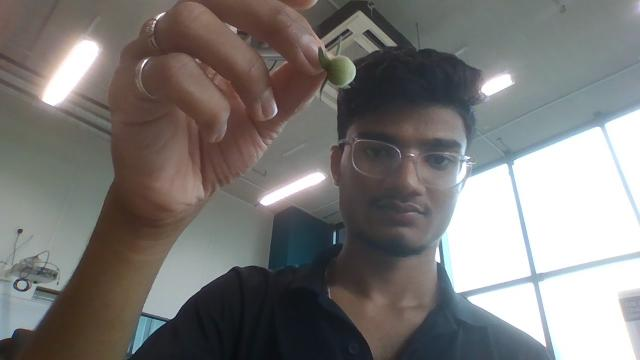Fruit Maturation: (322, 54, 356, 88)
